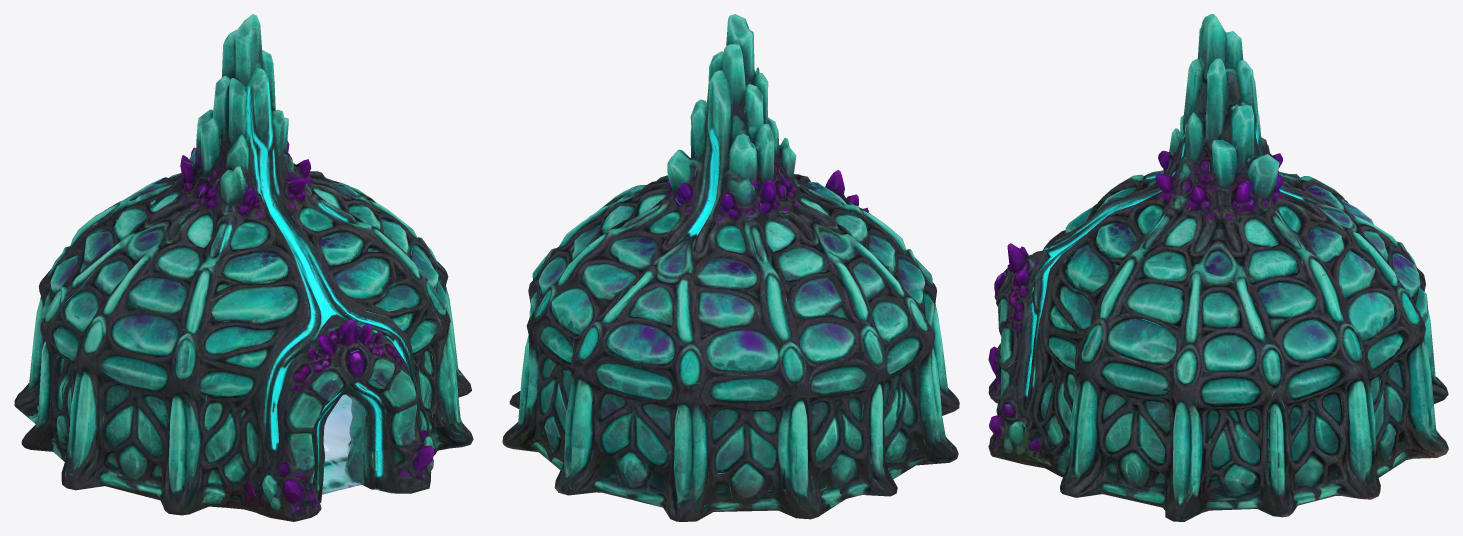
The model's file is zeknovan-village-shrine-arctic.glb.
3 views of the same model, side by side, from view 1: azimuth 30°, elevation 25°; view 2: azimuth 150°, elevation 25°; view 3: azimuth 270°, elevation 25° (orthographic).
Parts seen in each view (by area): view 1: Mesh1.0; view 2: Mesh1.0; view 3: Mesh1.0.
Boxes of the visible parts, x1=… form: Mesh1.0: x1=14, y1=14, x2=473, y2=521; Mesh1.0: x1=502, y1=14, x2=959, y2=521; Mesh1.0: x1=988, y1=14, x2=1448, y2=521.
Bounding box in the file's own units: 1.9 × 1.83 × 1.86.
Materials: 1 (1 with a texture image).
